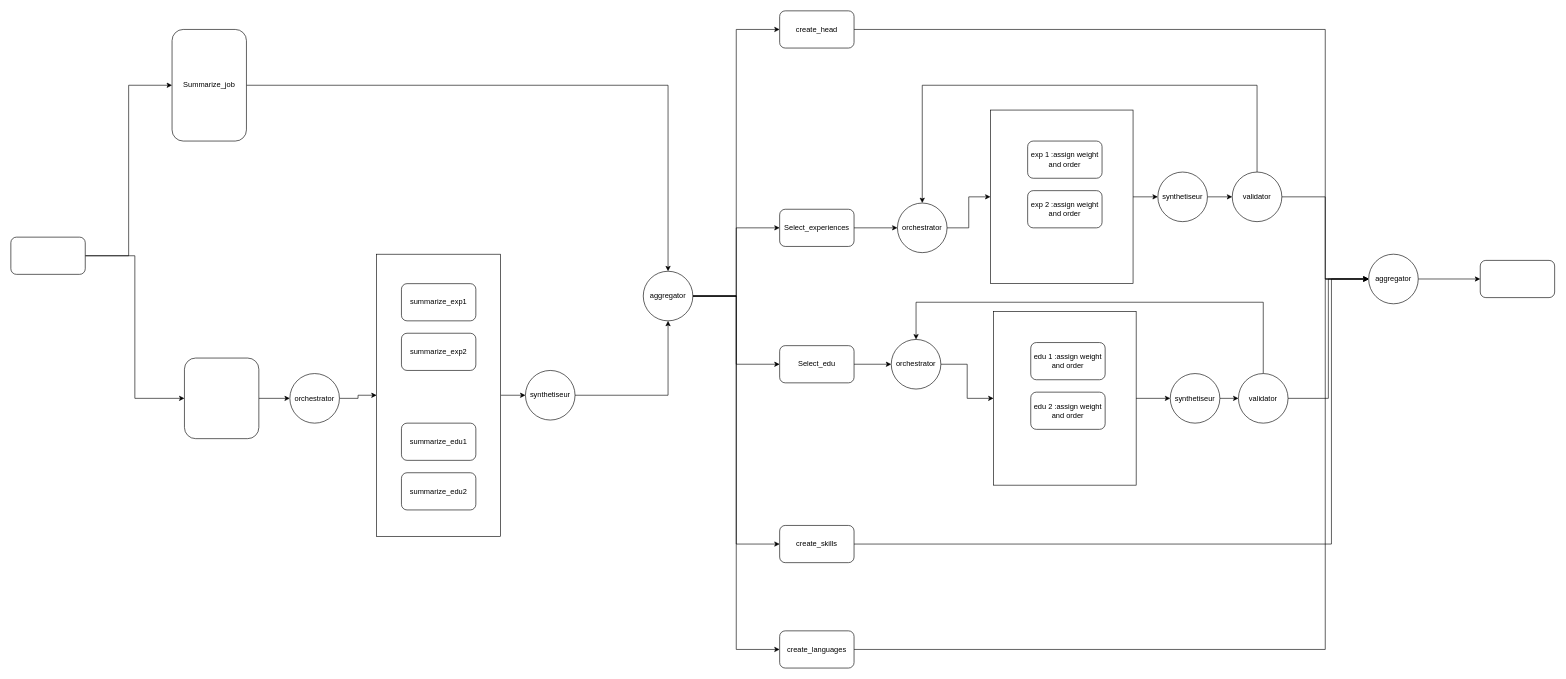
Some shapes in this 1566 by 679 pixel diagram are drawn without their labels. The shapes that lost their labels are listed below. From the top down, each one's centre as x and y in pixels, then its label:
At pixel 47 255: "START".
At pixel 1517 279: "Traduction et harmonisation".
At pixel 221 398: "Summarize_profile".
